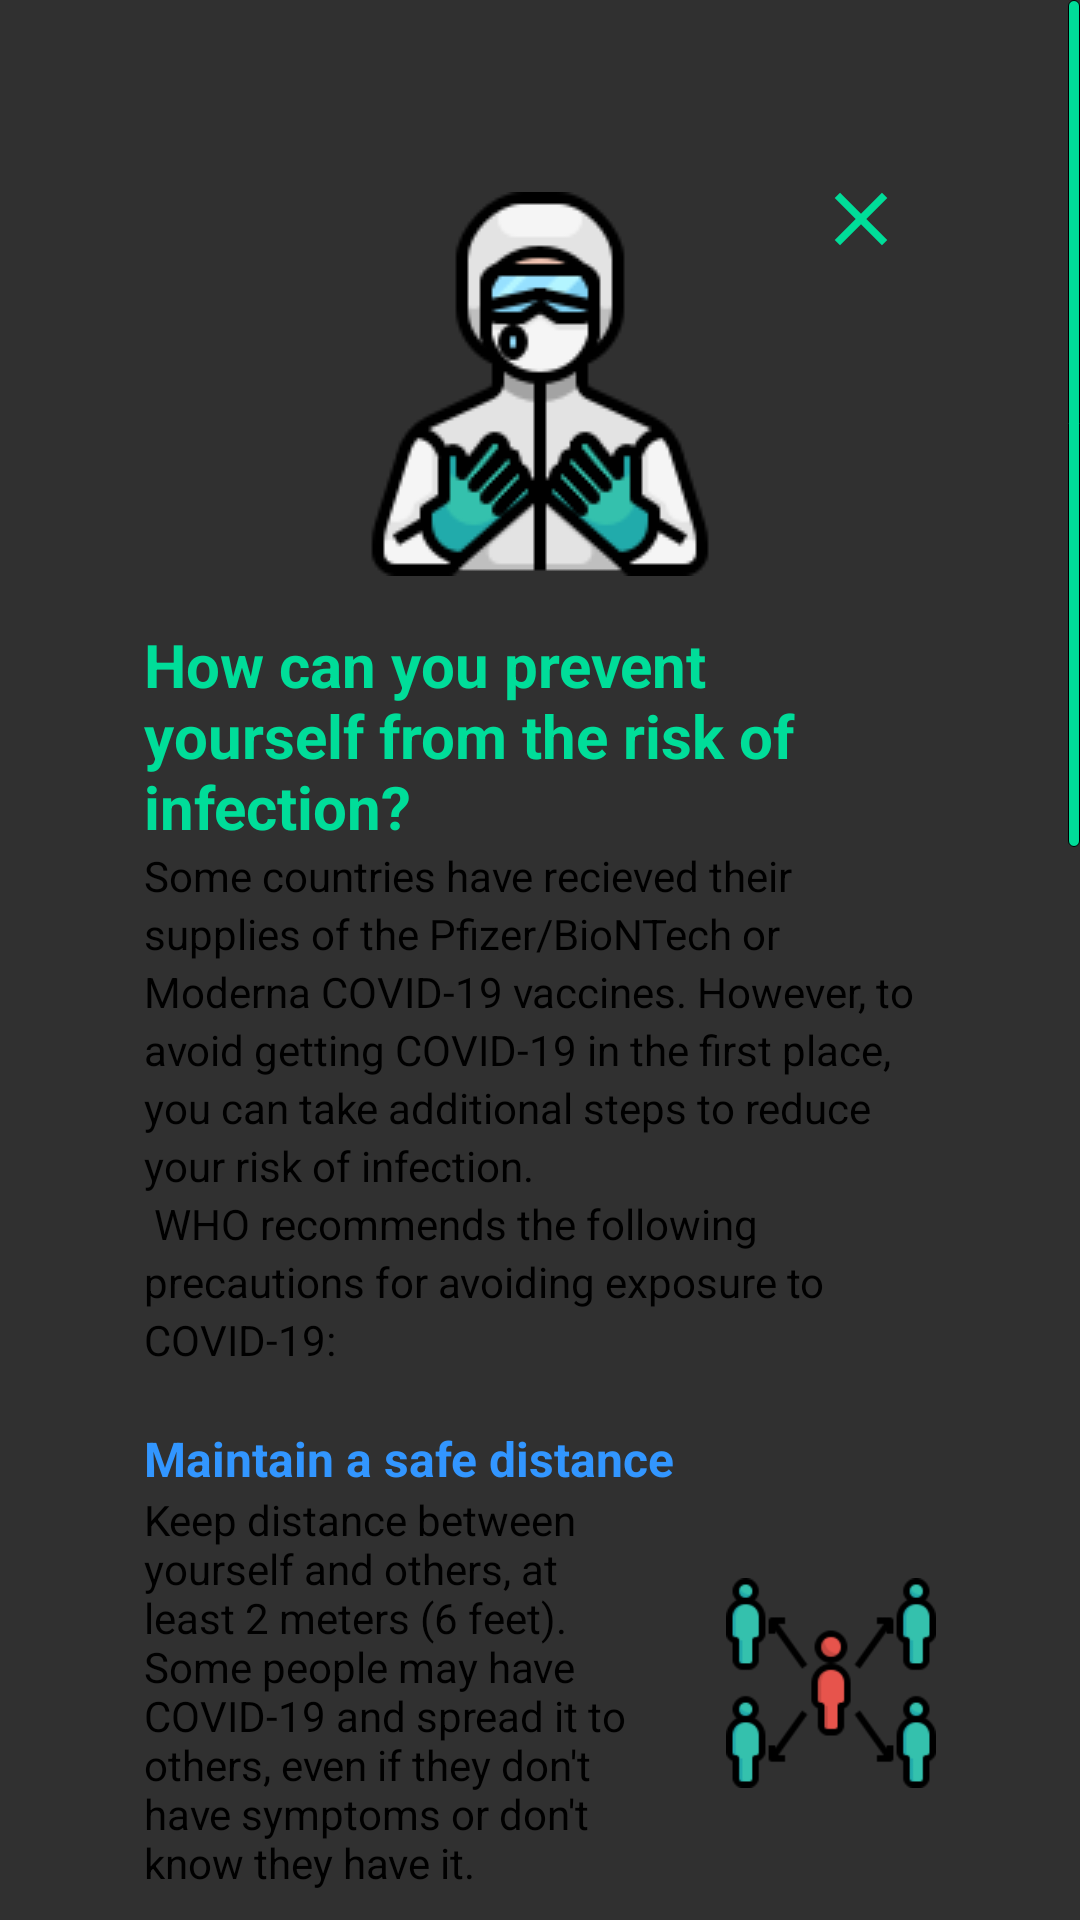

Screen size 1080 × 1920. Icon name, then its center in pixels as [x,y]:
close: [861,219]
